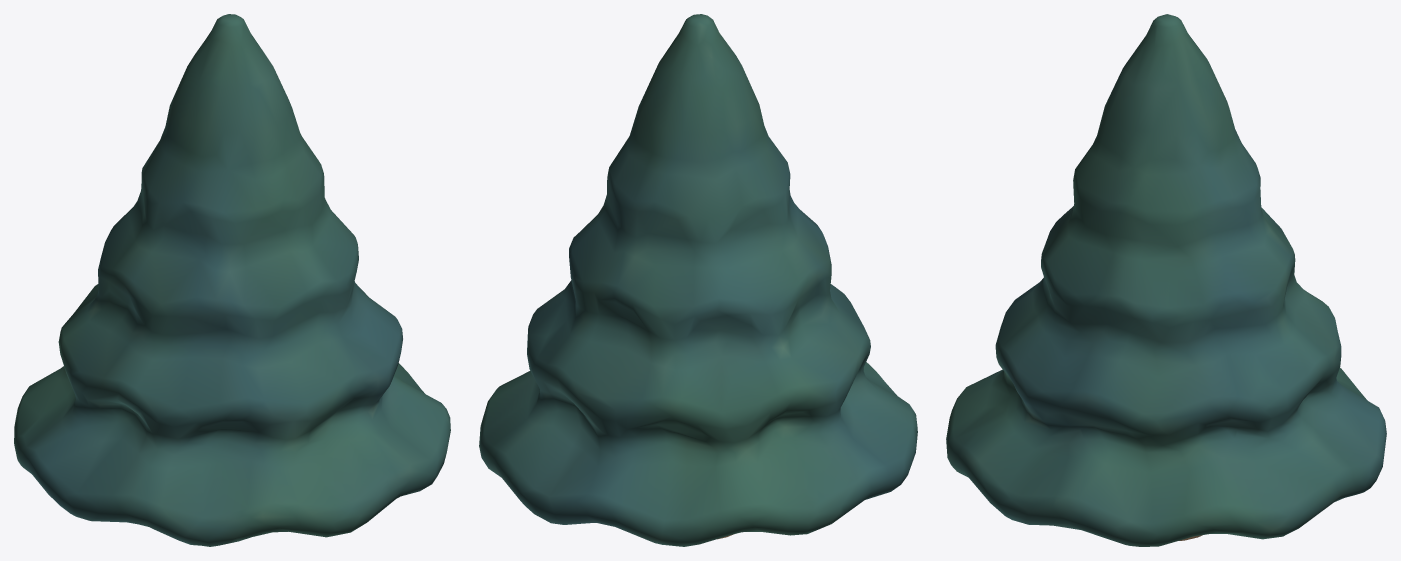
File: pine2.glb
The picture shows the model from 3 angles, left to right: view 1: azimuth 30°, elevation 25°; view 2: azimuth 150°, elevation 25°; view 3: azimuth 270°, elevation 25°; orthographic projection.
Parts seen in each view (by area): view 1: pine_canopy_squat; view 2: pine_canopy_squat; view 3: pine_canopy_squat.
Boxes of the visible parts, x1=… form: pine_canopy_squat: x1=14, y1=14, x2=450, y2=546; pine_canopy_squat: x1=479, y1=14, x2=917, y2=546; pine_canopy_squat: x1=946, y1=14, x2=1386, y2=546.
Size of the model in its own units: 3.1 by 4.01 by 3.12.
